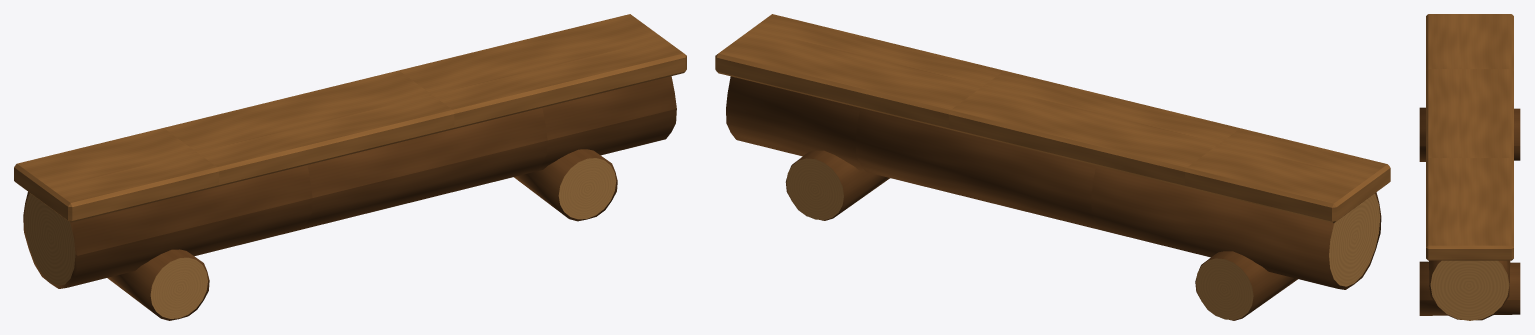
Rendered from yokocho-entry-log-bench.glb.
3 views of the same model, side by side, from view 1: azimuth 30°, elevation 25°; view 2: azimuth 150°, elevation 25°; view 3: azimuth 270°, elevation 25° (orthographic). The views are drawn at different scales.
Parts seen in each view (by area): view 1: EntryPlaza/LogBench0/HandplanedSeat__EntryHeartwood, EntryPlaza/LogBench0/Heart__EntryBark, EntryPlaza/LogBench0/Heart__EntryEndgrain, EntryPlaza/LogBench0/Leg-0.867__EntryEndgrain, EntryPlaza/LogBench0/Leg0.867__EntryEndgrain, EntryPlaza/LogBench0/Leg0.867__EntryBark, EntryPlaza/LogBench0/Leg-0.867__EntryBark; view 2: EntryPlaza/LogBench0/HandplanedSeat__EntryHeartwood, EntryPlaza/LogBench0/Heart__EntryBark, EntryPlaza/LogBench0/Heart__EntryEndgrain, EntryPlaza/LogBench0/Leg0.867__EntryEndgrain, EntryPlaza/LogBench0/Leg-0.867__EntryEndgrain, EntryPlaza/LogBench0/Leg0.867__EntryBark, EntryPlaza/LogBench0/Leg-0.867__EntryBark; view 3: EntryPlaza/LogBench0/HandplanedSeat__EntryHeartwood, EntryPlaza/LogBench0/Heart__EntryEndgrain, EntryPlaza/LogBench0/Leg0.867__EntryBark, EntryPlaza/LogBench0/Leg-0.867__EntryBark, EntryPlaza/LogBench0/Heart__EntryBark.
Boxes of the visible parts, x1=… form: EntryPlaza/LogBench0/HandplanedSeat__EntryHeartwood: x1=14, y1=14, x2=686, y2=222; EntryPlaza/LogBench0/Heart__EntryBark: x1=23, y1=76, x2=676, y2=288; EntryPlaza/LogBench0/Heart__EntryEndgrain: x1=24, y1=193, x2=75, y2=285; EntryPlaza/LogBench0/Leg-0.867__EntryEndgrain: x1=150, y1=257, x2=207, y2=318; EntryPlaza/LogBench0/Leg0.867__EntryEndgrain: x1=558, y1=158, x2=616, y2=219; EntryPlaza/LogBench0/Leg0.867__EntryBark: x1=514, y1=149, x2=617, y2=221; EntryPlaza/LogBench0/Leg-0.867__EntryBark: x1=107, y1=249, x2=209, y2=320; EntryPlaza/LogBench0/HandplanedSeat__EntryHeartwood: x1=715, y1=14, x2=1390, y2=223; EntryPlaza/LogBench0/Heart__EntryBark: x1=726, y1=76, x2=1381, y2=289; EntryPlaza/LogBench0/Heart__EntryEndgrain: x1=1329, y1=193, x2=1380, y2=286; EntryPlaza/LogBench0/Leg0.867__EntryEndgrain: x1=786, y1=158, x2=843, y2=220; EntryPlaza/LogBench0/Leg-0.867__EntryEndgrain: x1=1196, y1=258, x2=1253, y2=319; EntryPlaza/LogBench0/Leg0.867__EntryBark: x1=785, y1=150, x2=889, y2=220; EntryPlaza/LogBench0/Leg-0.867__EntryBark: x1=1195, y1=251, x2=1297, y2=320; EntryPlaza/LogBench0/HandplanedSeat__EntryHeartwood: x1=1426, y1=14, x2=1513, y2=260; EntryPlaza/LogBench0/Heart__EntryEndgrain: x1=1430, y1=260, x2=1509, y2=320; EntryPlaza/LogBench0/Leg0.867__EntryBark: x1=1419, y1=261, x2=1520, y2=315; EntryPlaza/LogBench0/Leg-0.867__EntryBark: x1=1419, y1=107, x2=1520, y2=161; EntryPlaza/LogBench0/Heart__EntryBark: x1=1429, y1=260, x2=1510, y2=320.
Size of the model in its own units: 2.63 by 0.5559 by 0.484.
Materials: 3 (3 with a texture image).
